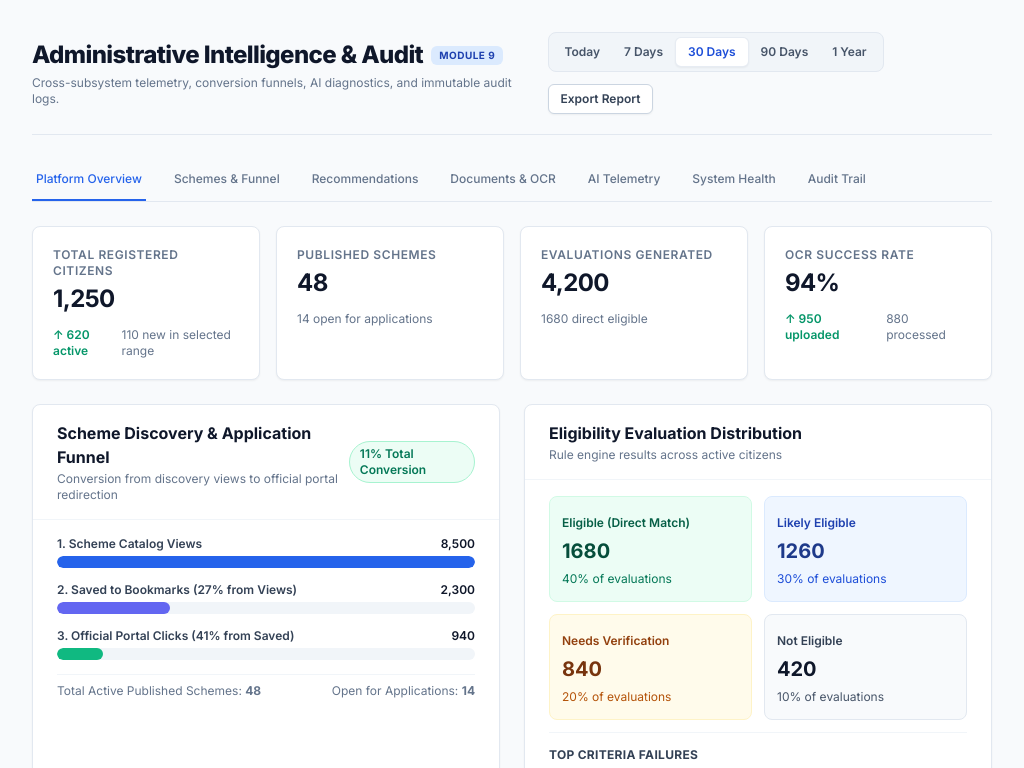
Test: AdminAnalyticsDashboardPage (Module 9) › opens export modal when clicking Export Report button
The width and height of the screenshot is (1024, 768).
Expected: the element with test id "metric-total-users" is shown, [32, 226, 260, 380]
Click the button "Export Report": click(600, 99) [548, 84, 653, 114]
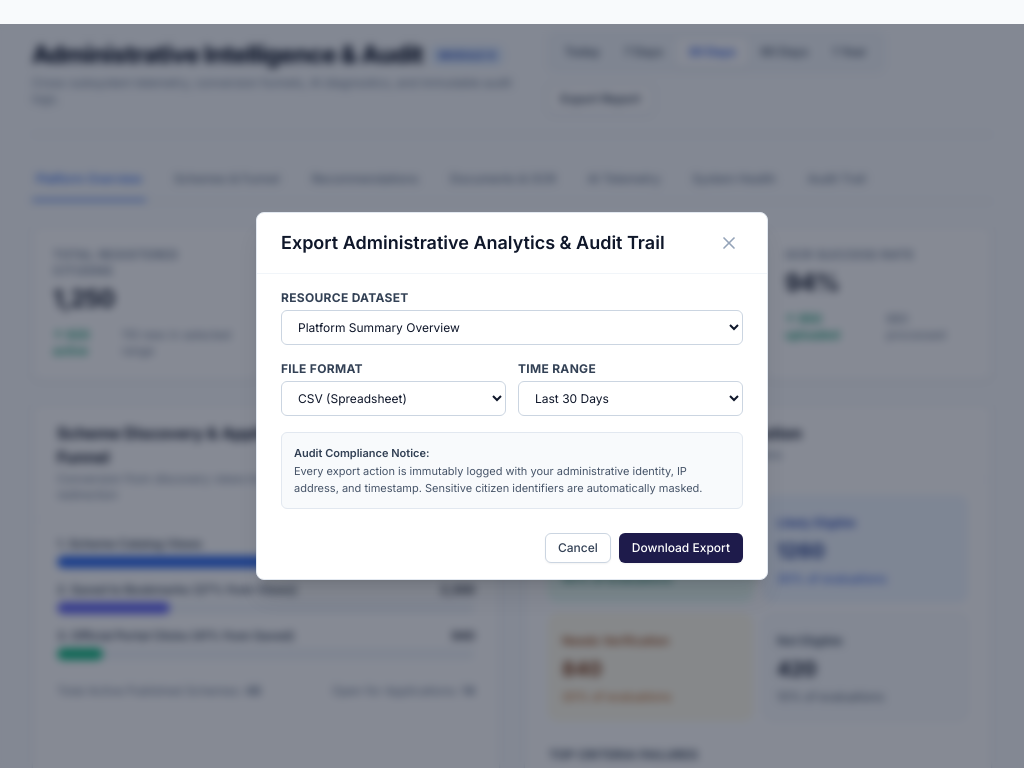
Expected: the heading "Export Administrative Analytics & Audit Trail" is shown, [281, 229, 665, 257]
